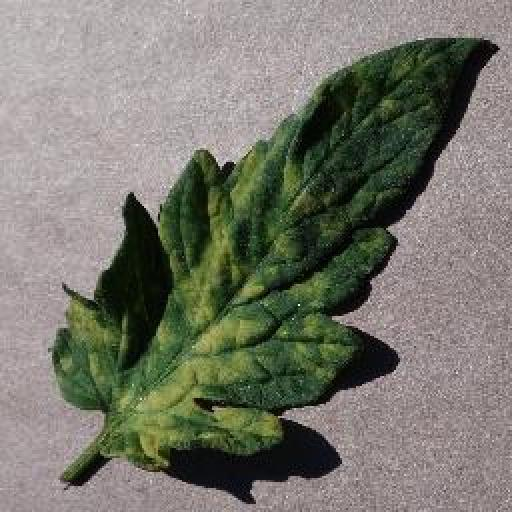disease_tomato: (48, 32, 486, 478)
